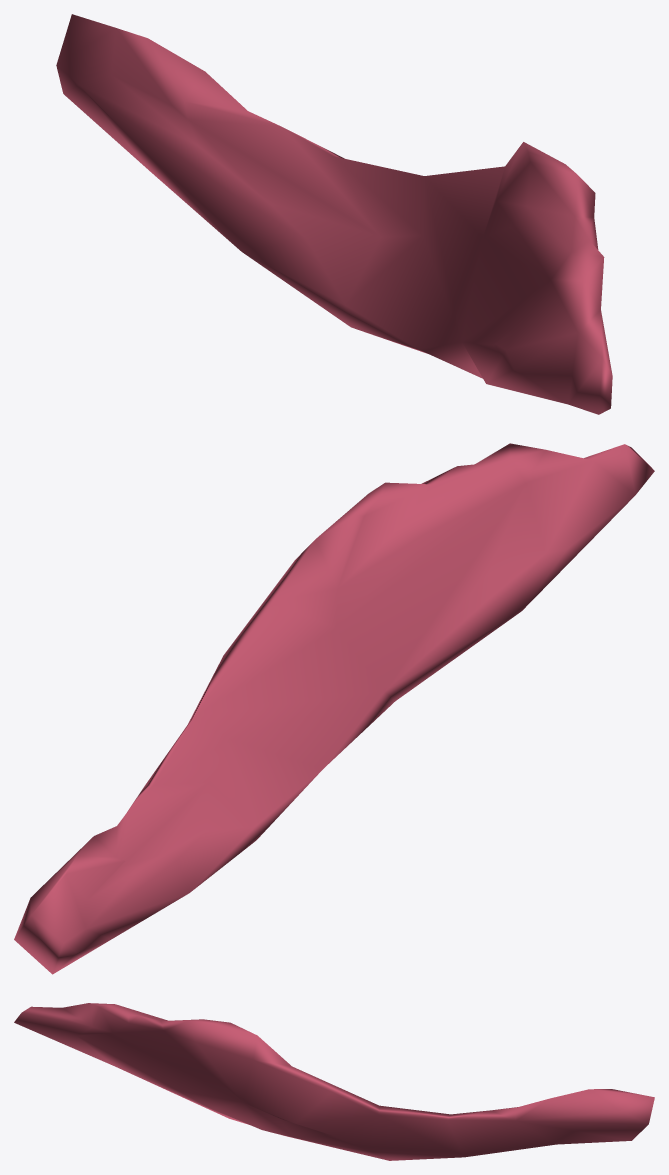
3 renders of one model, top to bottom at view 1: azimuth 30°, elevation 25°; view 2: azimuth 150°, elevation 25°; view 3: azimuth 270°, elevation 25°, orthographic. The views are drawn at different scales.
Parts seen in each view (by area): view 1: 左侧提上唇鼻翼肌; view 2: 左侧提上唇鼻翼肌; view 3: 左侧提上唇鼻翼肌.
Part boxes in pixels (x1=…): 左侧提上唇鼻翼肌: x1=56, y1=14, x2=612, y2=414; 左侧提上唇鼻翼肌: x1=14, y1=443, x2=654, y2=974; 左侧提上唇鼻翼肌: x1=14, y1=1003, x2=654, y2=1160.
Size of the model in its own units: 0.00803 by 0.0106 by 0.0429.
